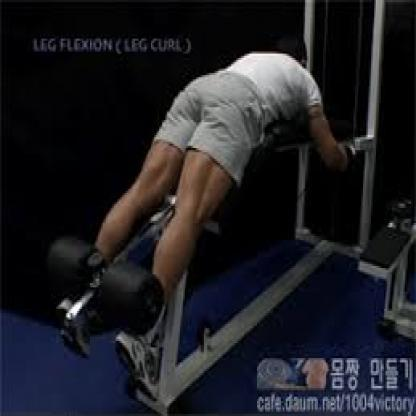reg curl machine: (45, 4, 389, 415)
